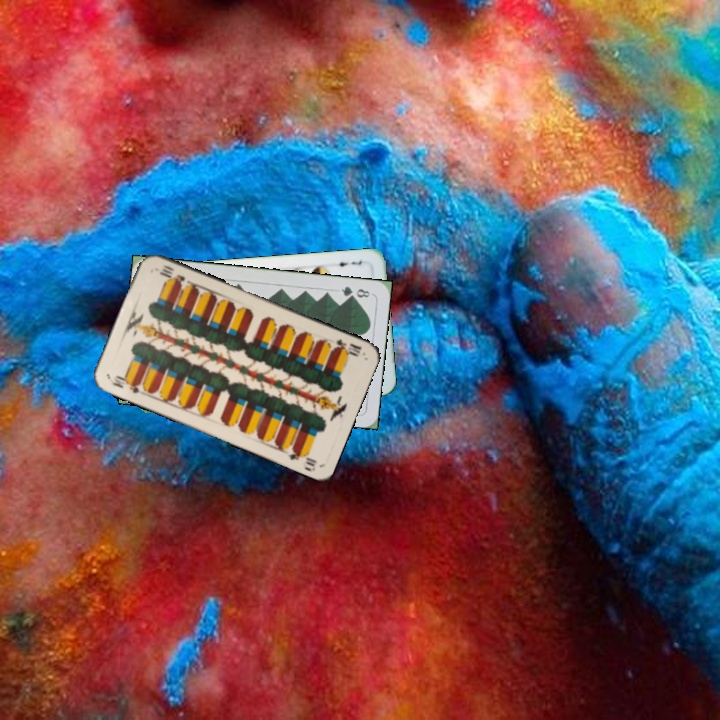E10: (106, 371, 147, 396), (330, 335, 364, 359)
E7: (330, 257, 364, 269)
G8: (337, 282, 372, 301)
